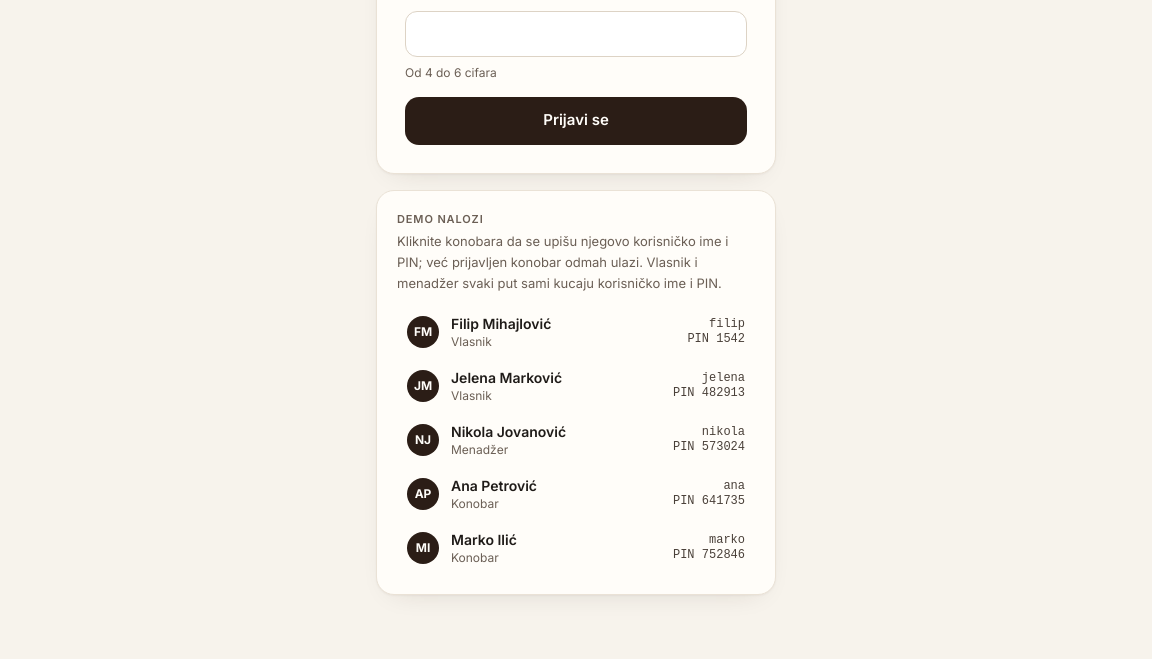
Test: staff › /waiter without a session goes to the sign-in, where a demo account fills the form
The image size is (1152, 659).
(page scrolled)
Click the button "AP Ana Petrović Konobar ana PIN 641735". click: (423,494)
box: x1=397 y1=468 x2=755 y2=520
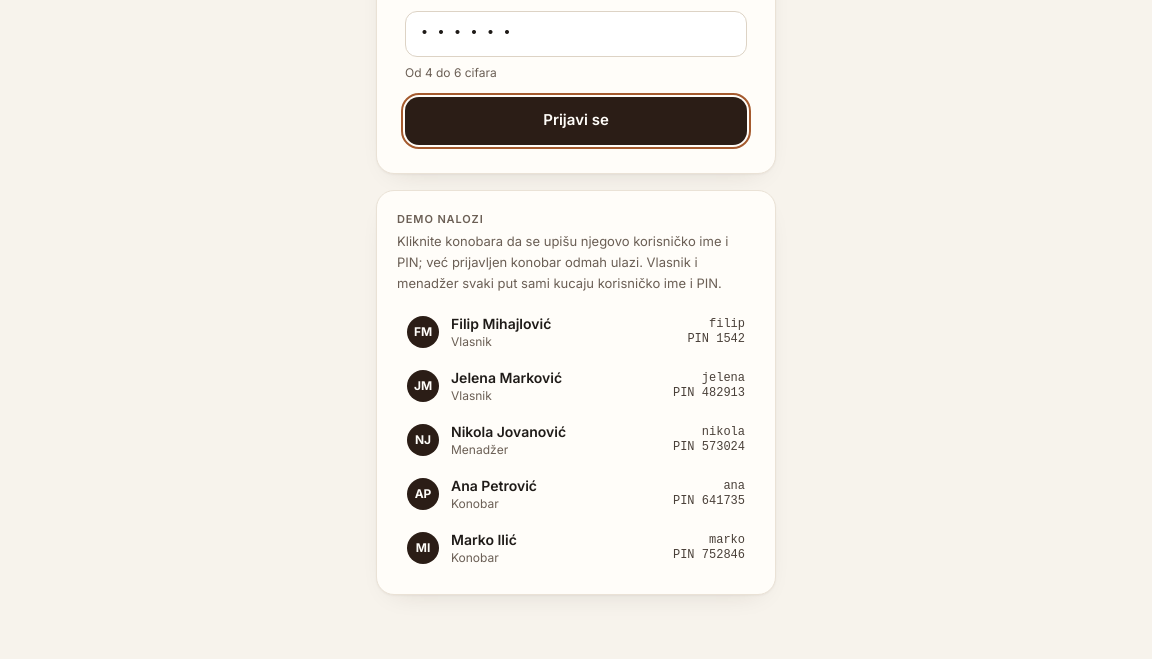
Now the password field labelled "PIN" holds "641735", box x1=405 y1=10 x2=747 y2=56
Click the button "Prijavi se". click: (576,120)
box: x1=405 y1=96 x2=747 y2=144
(page scrolled)
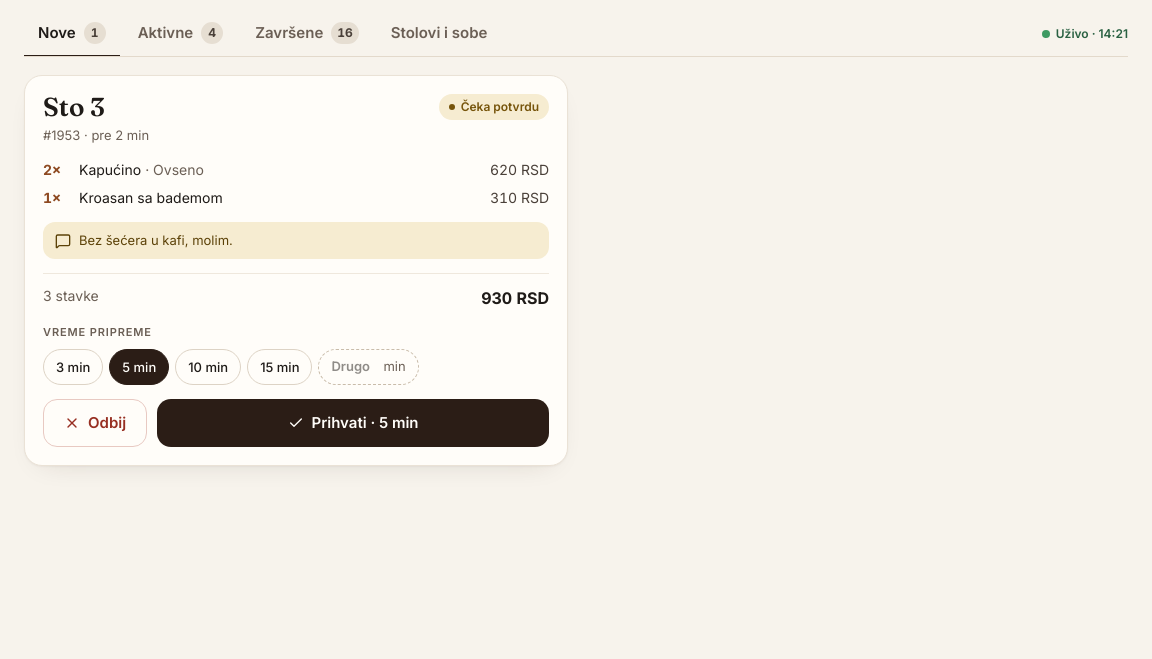
Now the heading "Sto 3" is shown, box x1=43 y1=91 x2=105 y2=123
